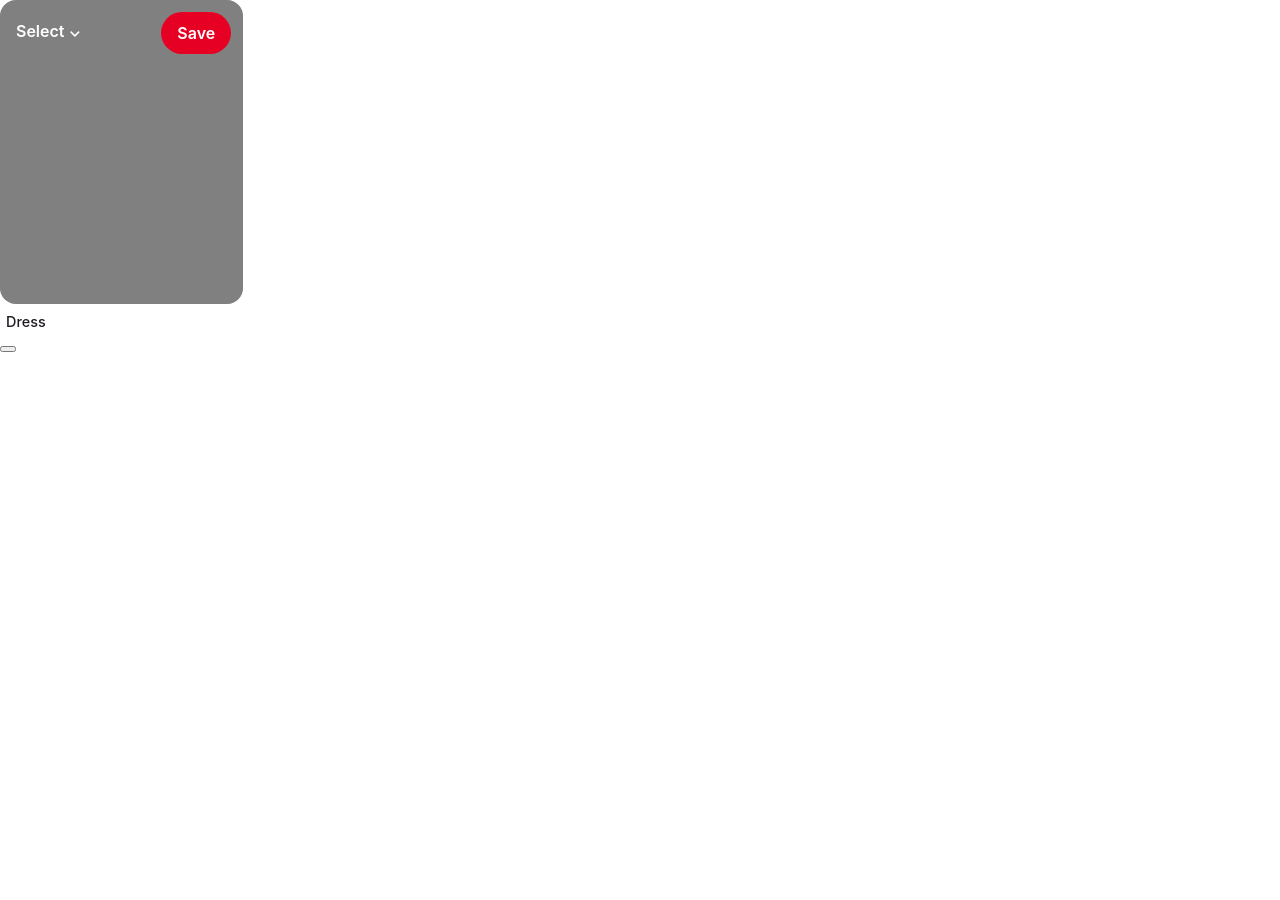
Test: saving › saves to several boards (including a sub-board) from the checklist, then undoes
// No last board yet, so Save opens the picker.
Click the button "Save". click: (196, 33)
box: [161,12,231,54]
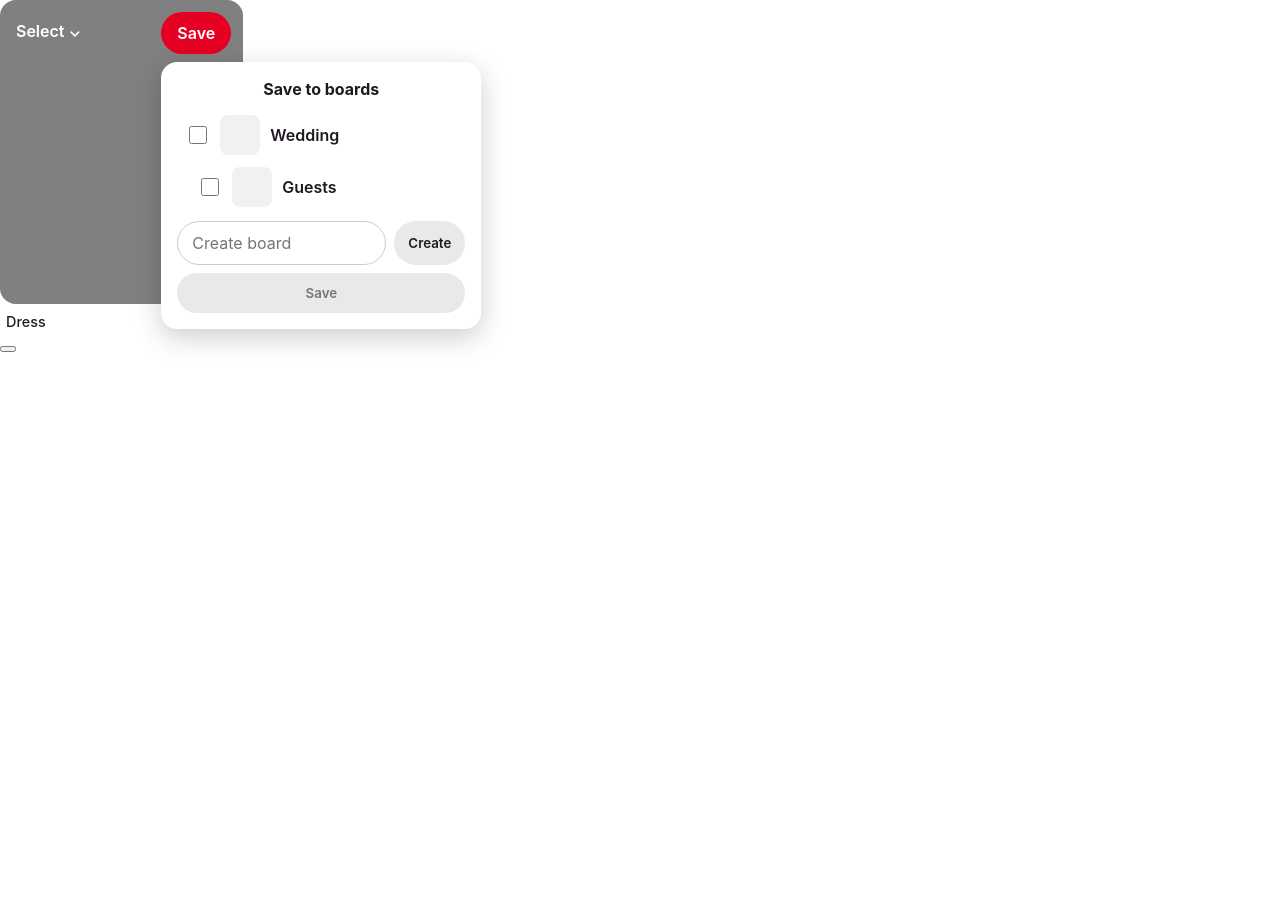
Check: the dialog "Save to boards" is shown, box [161,62,481,329]
Click the checkbox labelled "Wedding". click: (198, 135)
box: [189,126,207,144]
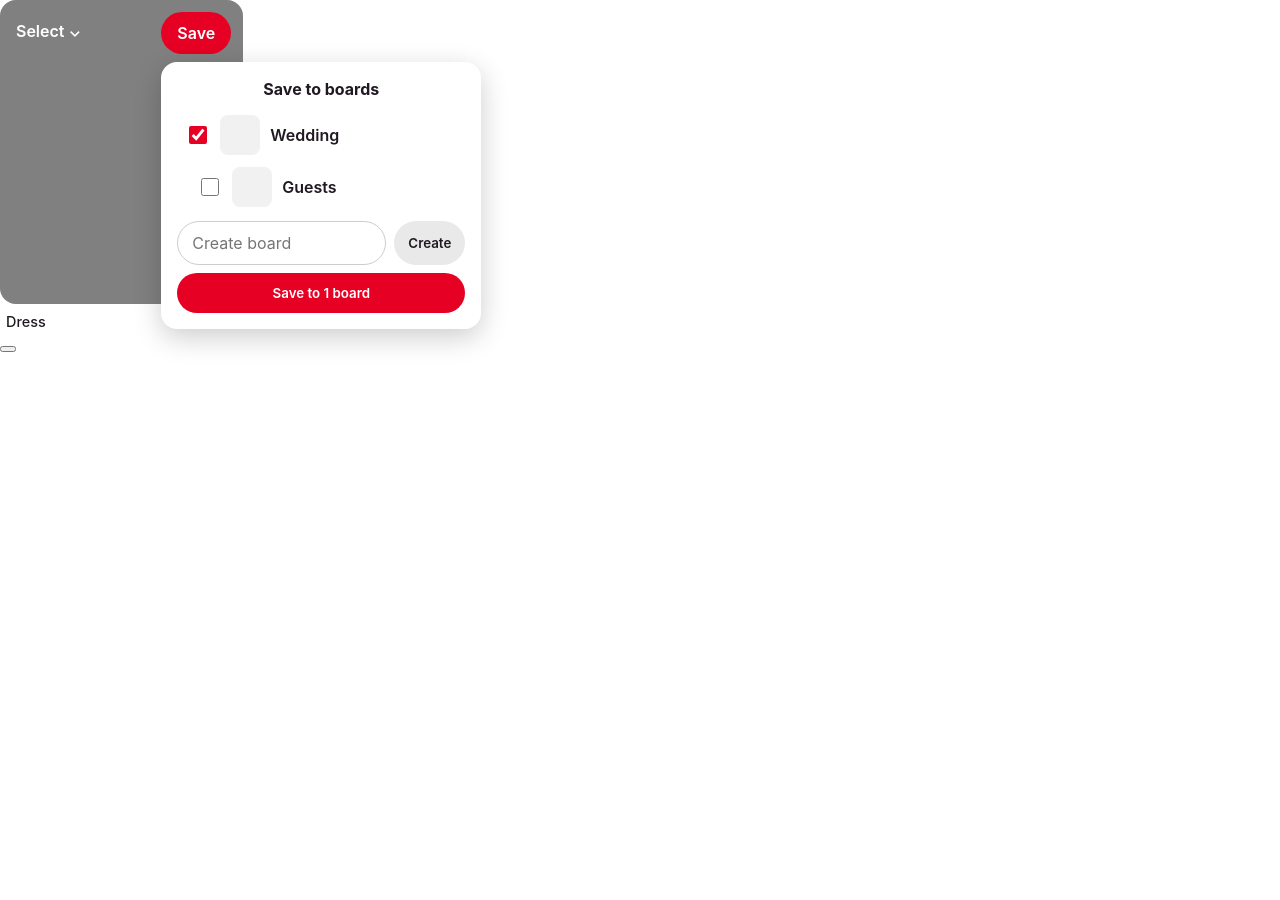
Click the checkbox labelled "Guests". click: (210, 187)
box: [201,178,219,196]
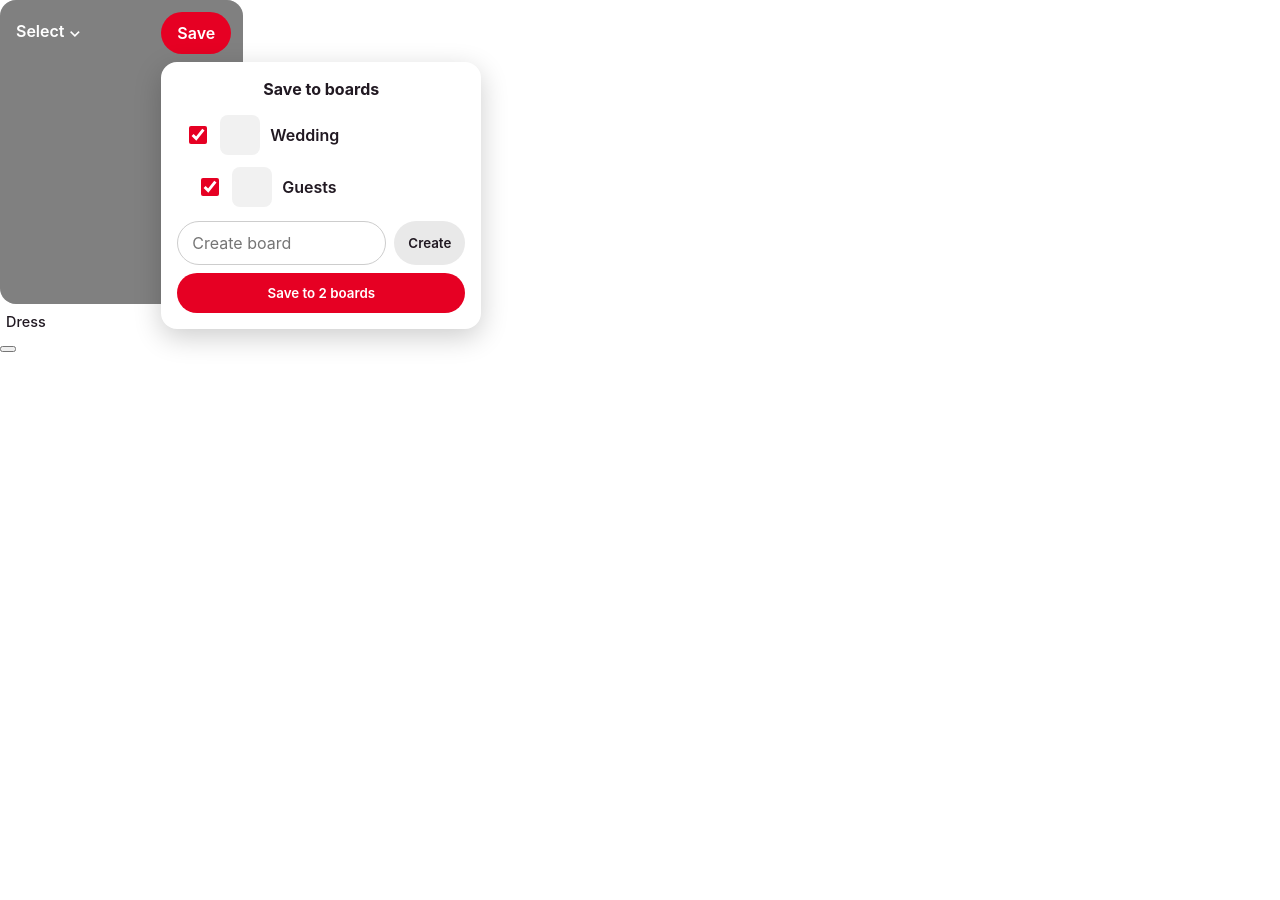
Click the button "Save to 2 boards". click: (321, 293)
box: [177,273,465,313]
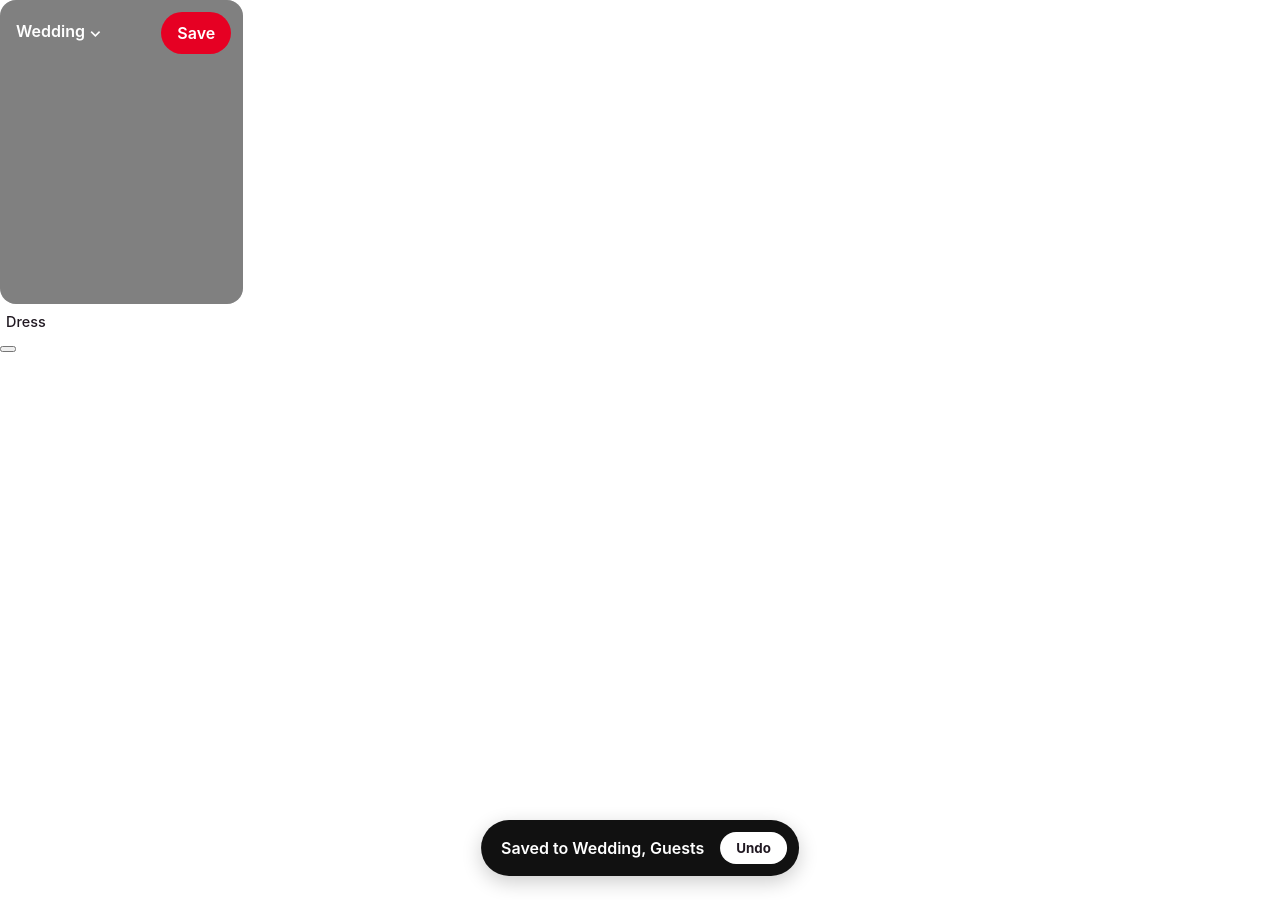
Check: the text "Saved to Wedding, Guests" is shown, box [501,837,704,859]
Check: the dialog is gone
Click the button "Undo". click: (754, 848)
box: [720,832,787,864]
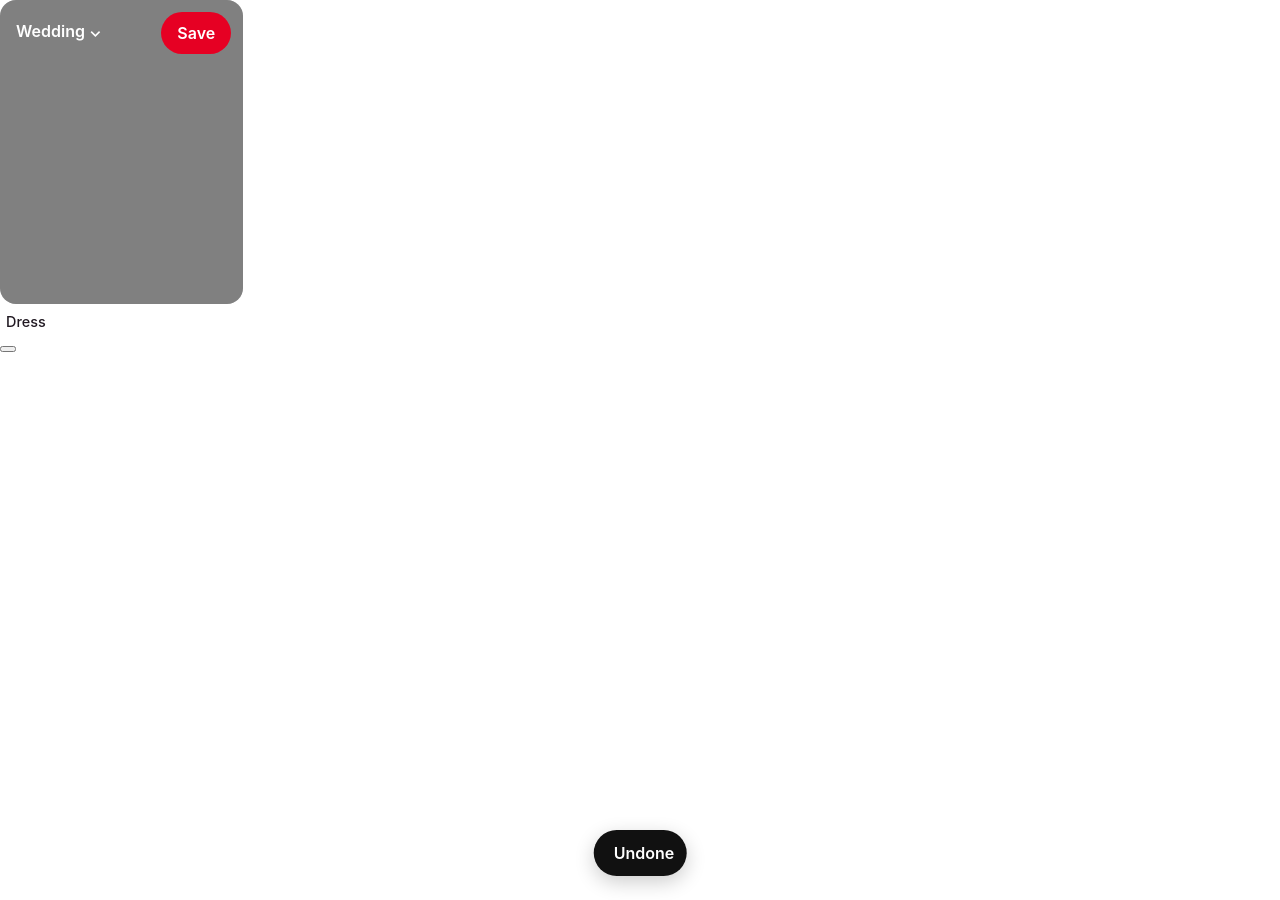
Check: the text "Undone" is shown, box [614,842,674,864]
